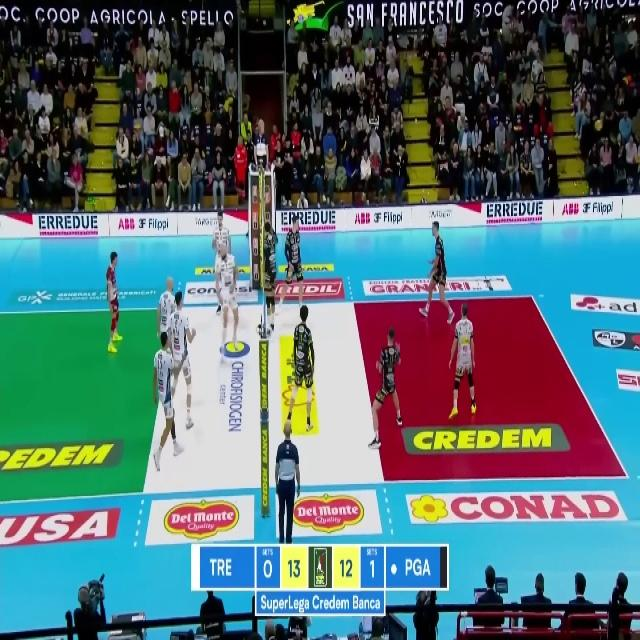volleyball court: (0, 294, 627, 498)
